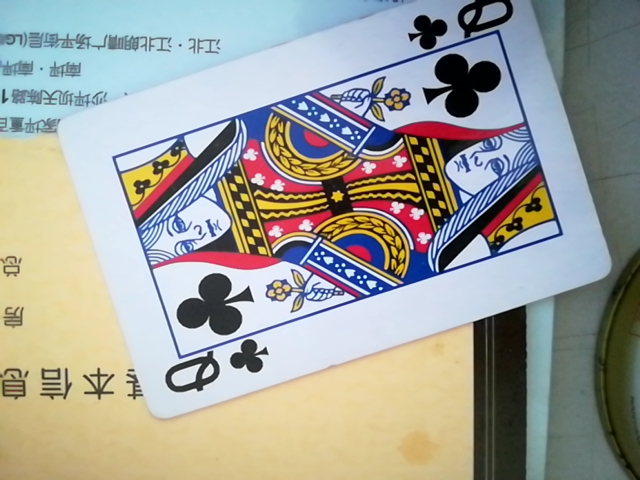mh q: (47, 2, 615, 420)
